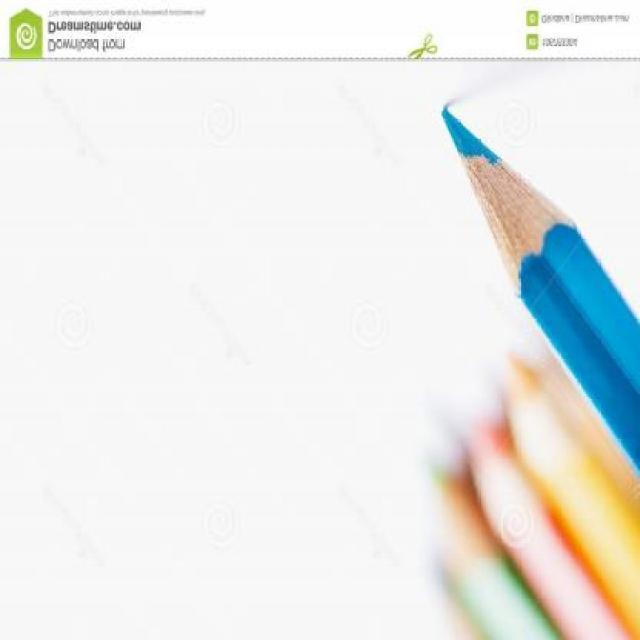Pencil: (426, 92, 602, 348)
